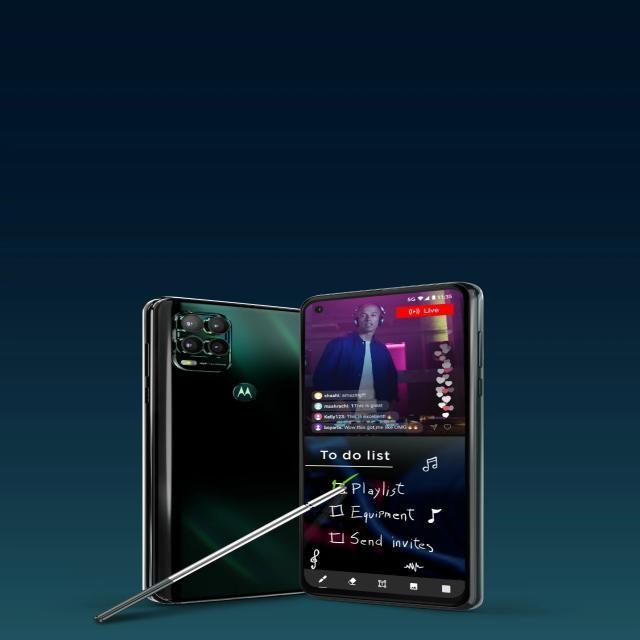Phone: (294, 285, 490, 614), (138, 296, 300, 610)
